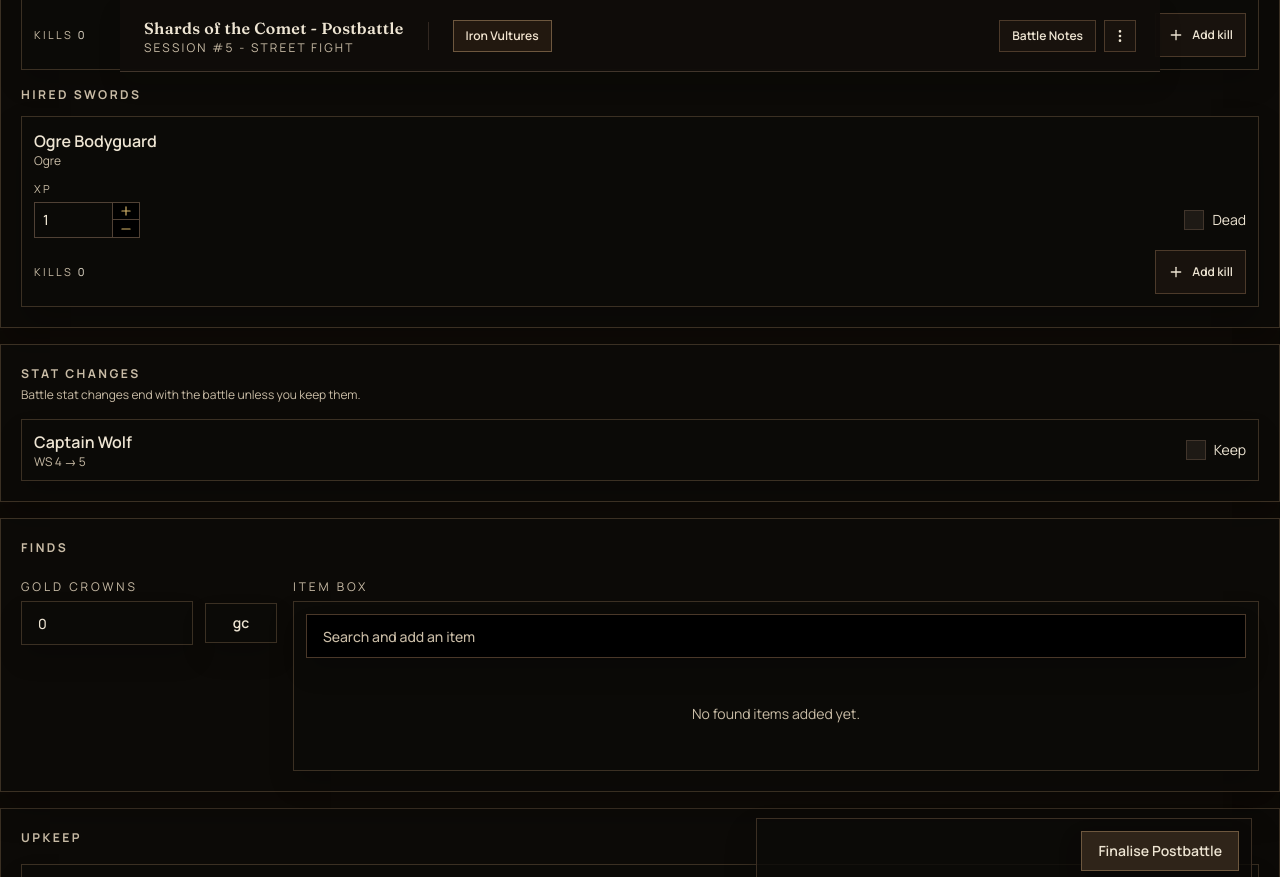
BattlePostbattle requests › keeps battle stat changes only when ticked, and shows what finalise warns about in neutral words (SEC-10)
(page scrolled)
Check: the text "WS 4 → 5" is shown, box [34,453,86,470]
Click the checkbox named "Keep Captain Wolf's stat changes".
click(1216, 450)  # box [1186,440,1246,460]
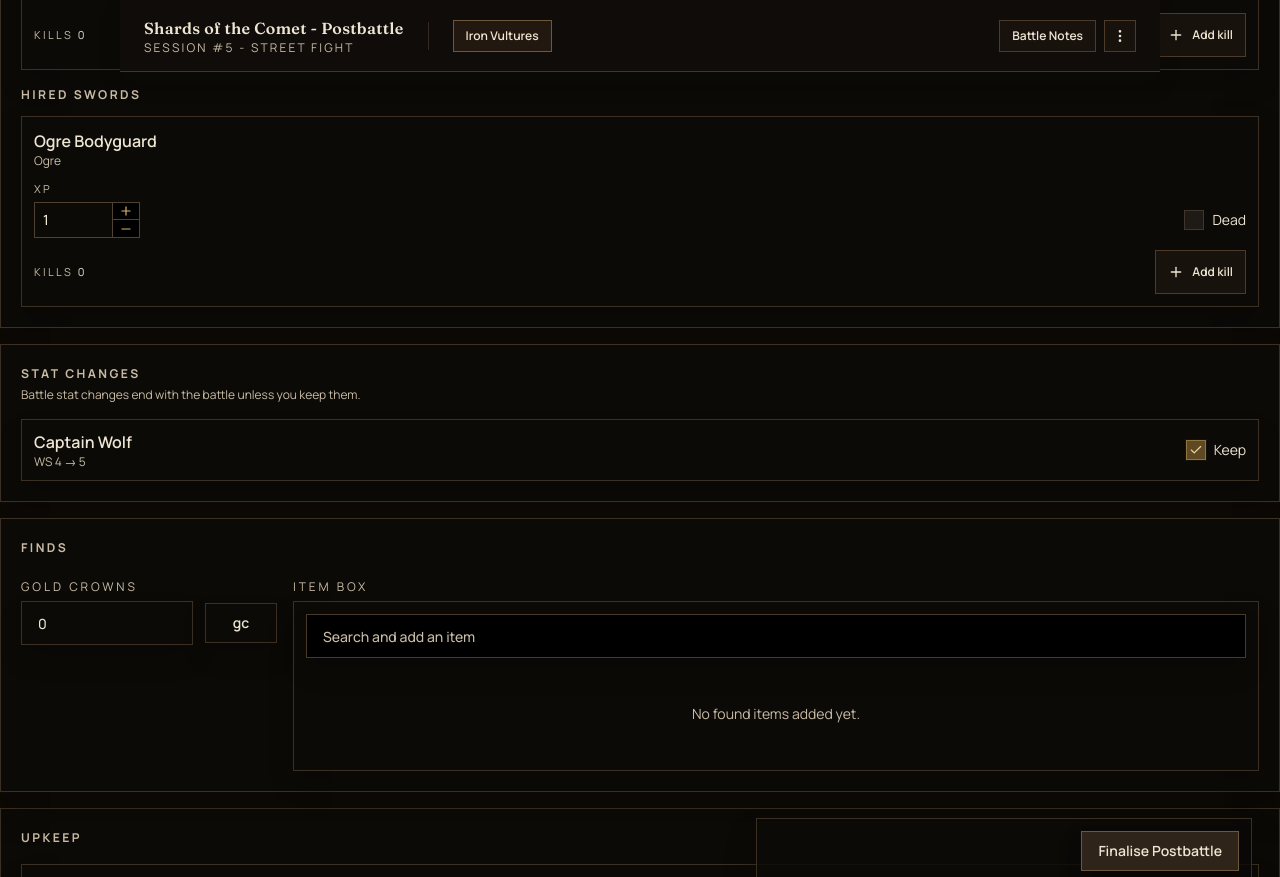
Click the button "Finalise Postbattle".
click(1160, 851)  # box [1081,831,1239,871]
(page scrolled)
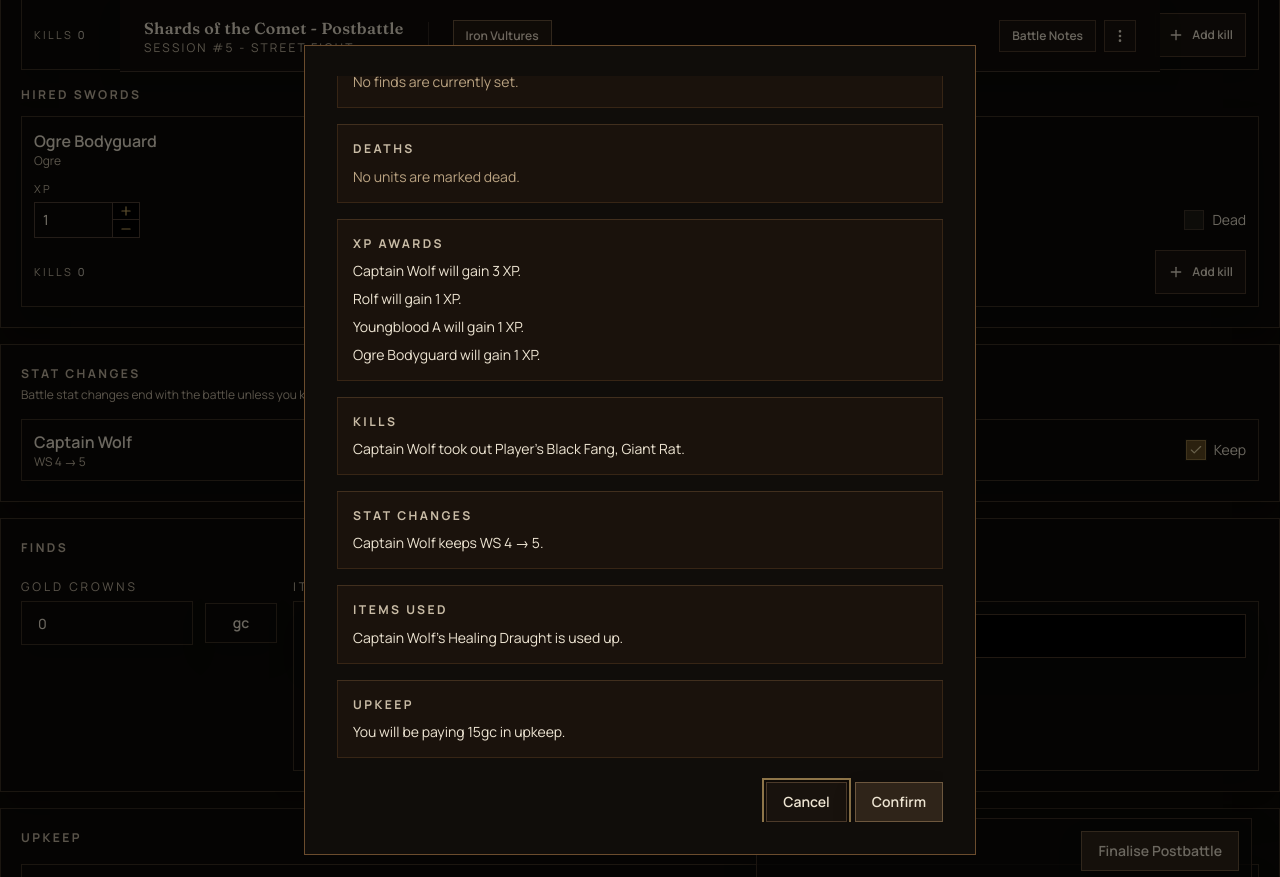
Click the button "Confirm".
click(899, 802)  # box [855,782,943,822]
(page scrolled)
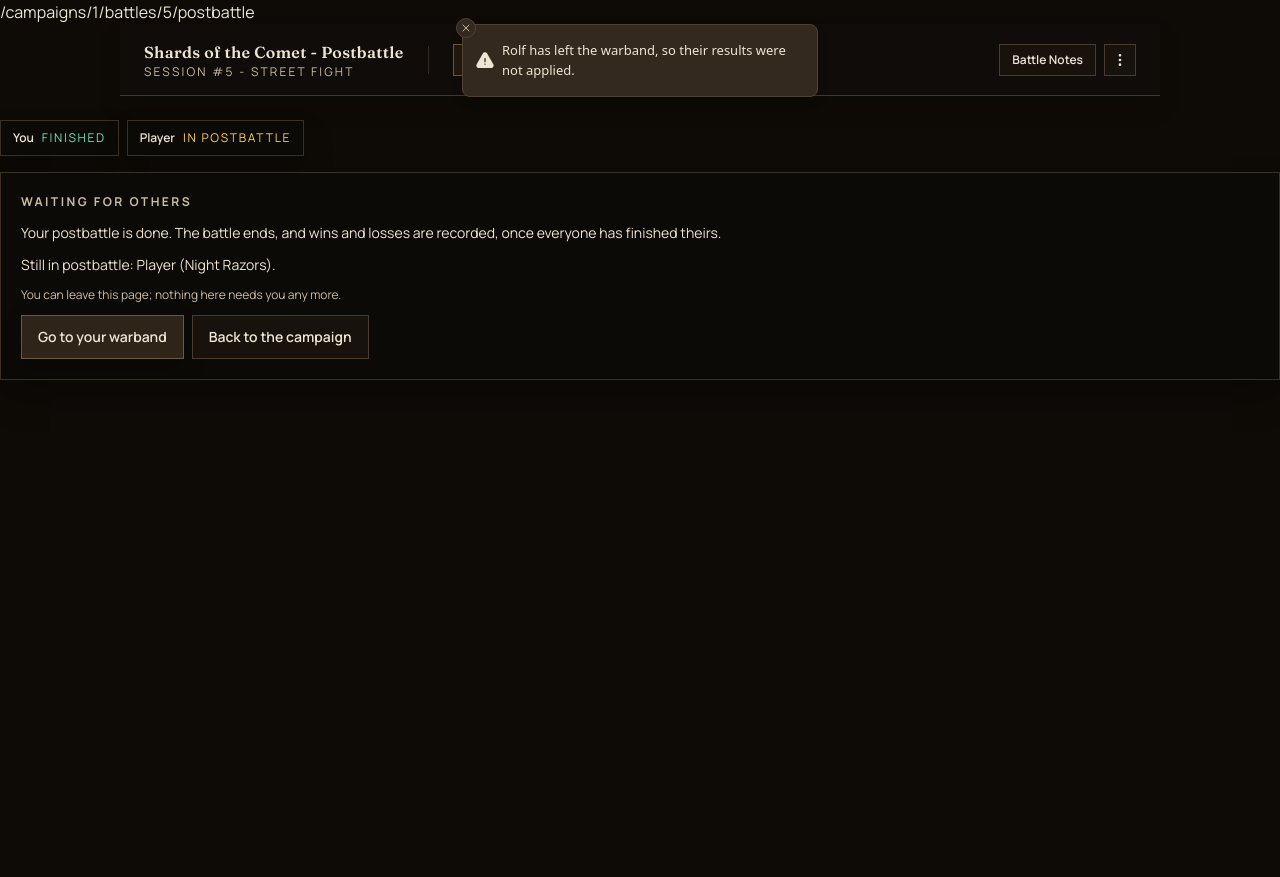
Check: the text "Rolf has left the warband, so their results were not applied." is shown, box [502,41,801,80]
